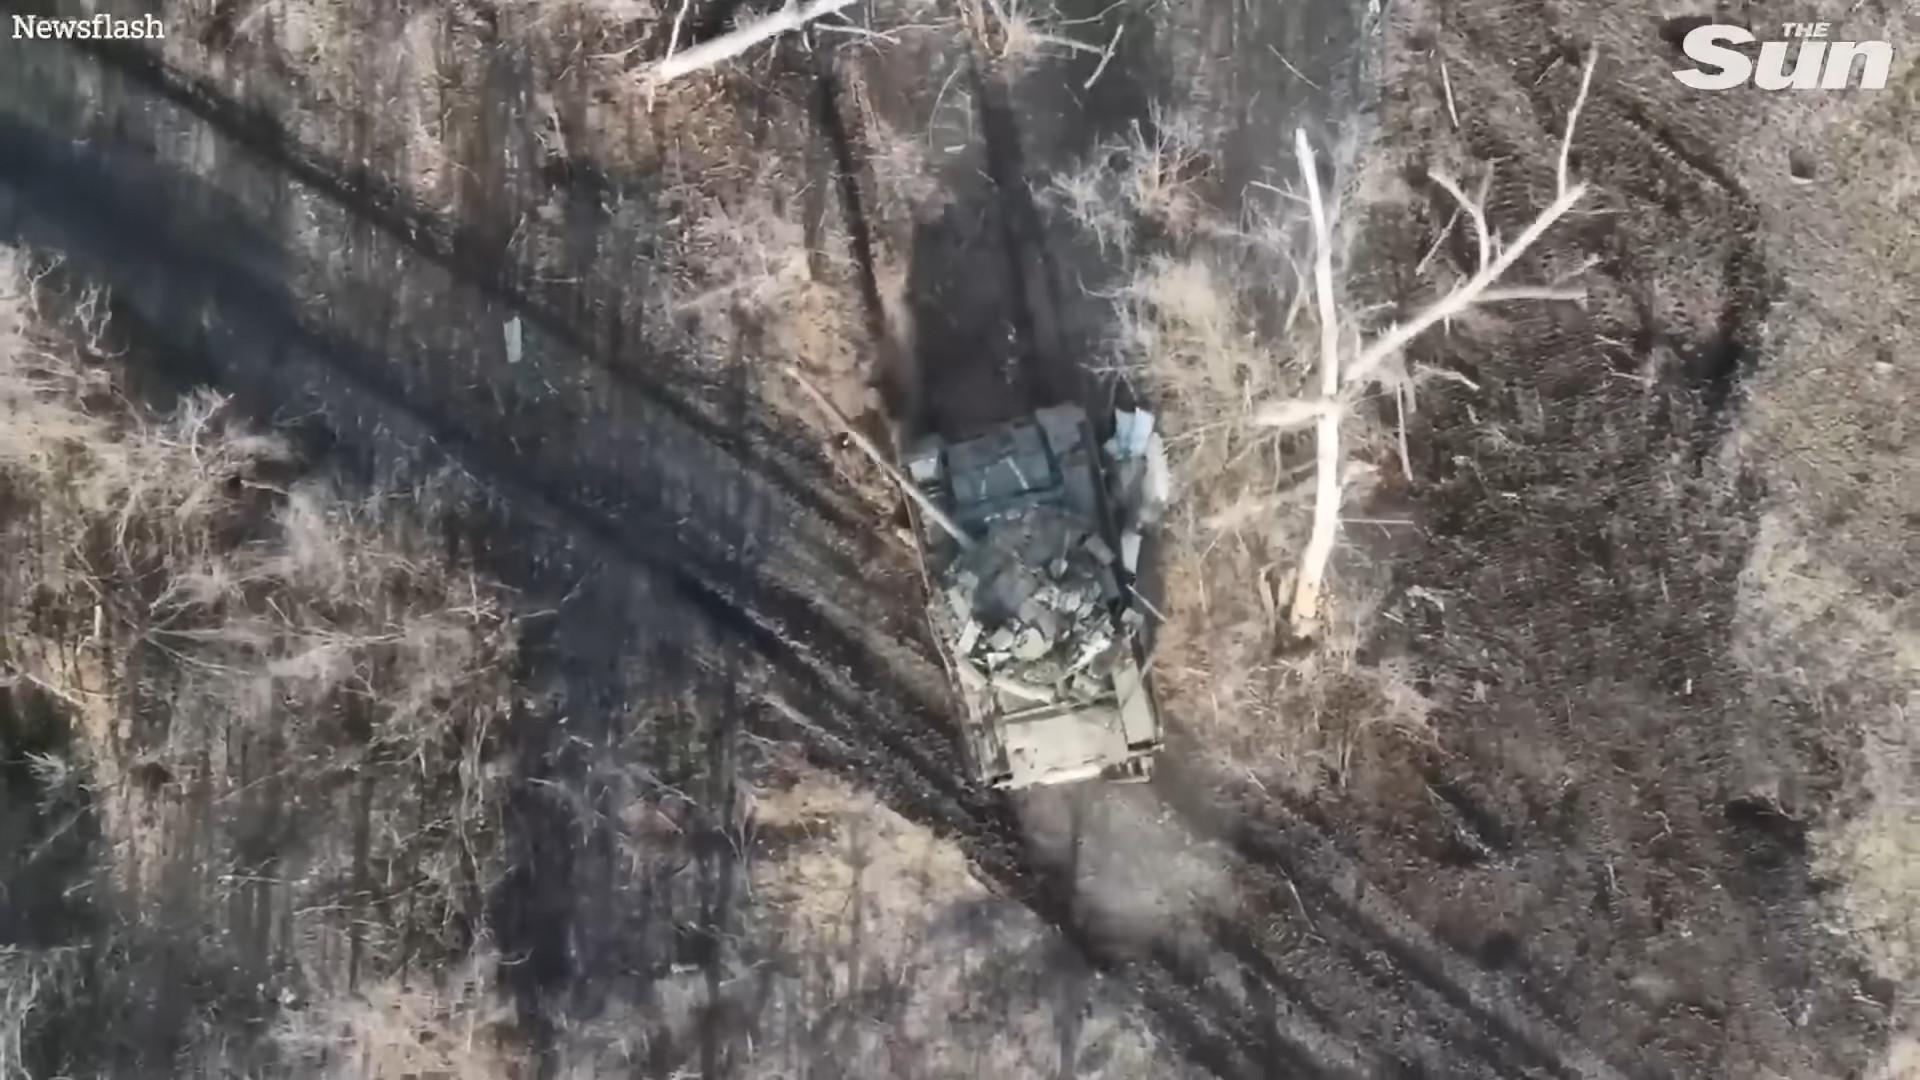tank: (785, 367, 1162, 793)
